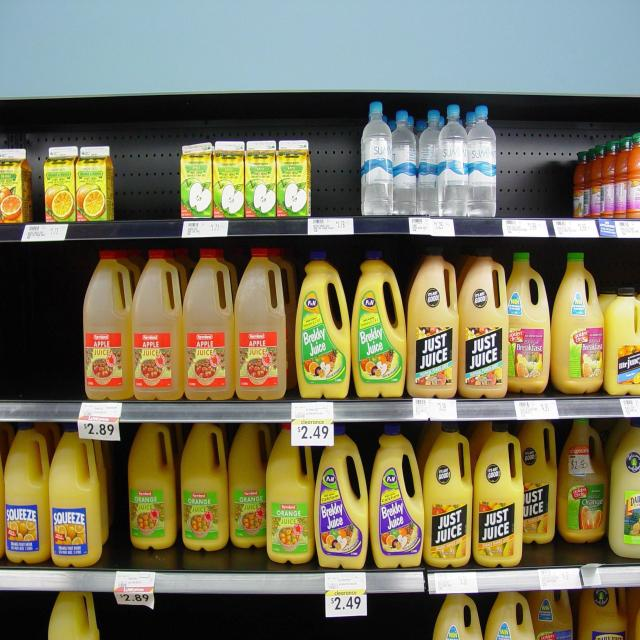empty_space: (120, 610, 420, 640), (501, 109, 582, 213), (5, 266, 75, 386), (120, 110, 175, 210), (310, 110, 350, 210), (0, 610, 38, 640)
